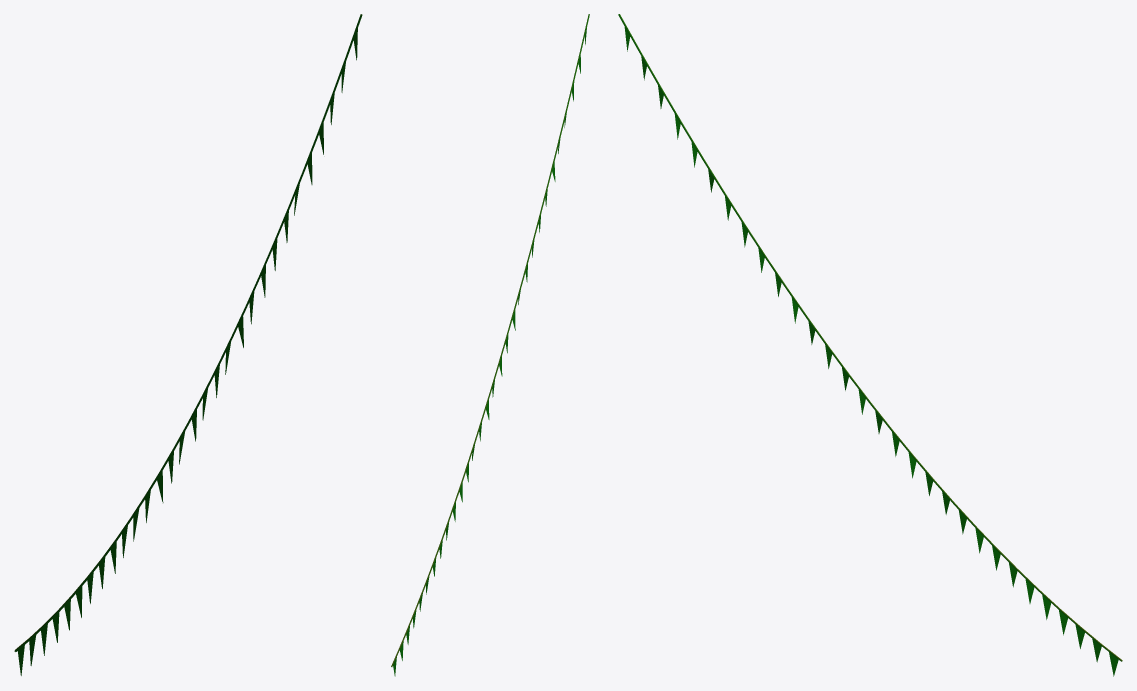
File: pennant_line.glb
3 renders of one model, left to right at view 1: azimuth 30°, elevation 25°; view 2: azimuth 150°, elevation 25°; view 3: azimuth 270°, elevation 25°, orthographic. The views are drawn at different scales.
Parts seen in each view (by area): view 1: pennant_line; view 2: pennant_line; view 3: pennant_line.
Part boxes in pixels (bbox=[...]): pennant_line: bbox=[14, 14, 362, 675]; pennant_line: bbox=[391, 14, 589, 676]; pennant_line: bbox=[618, 14, 1122, 676].
Size of what is drawn, in the model's own units: 0.2012 by 22.24 by 15.35.
